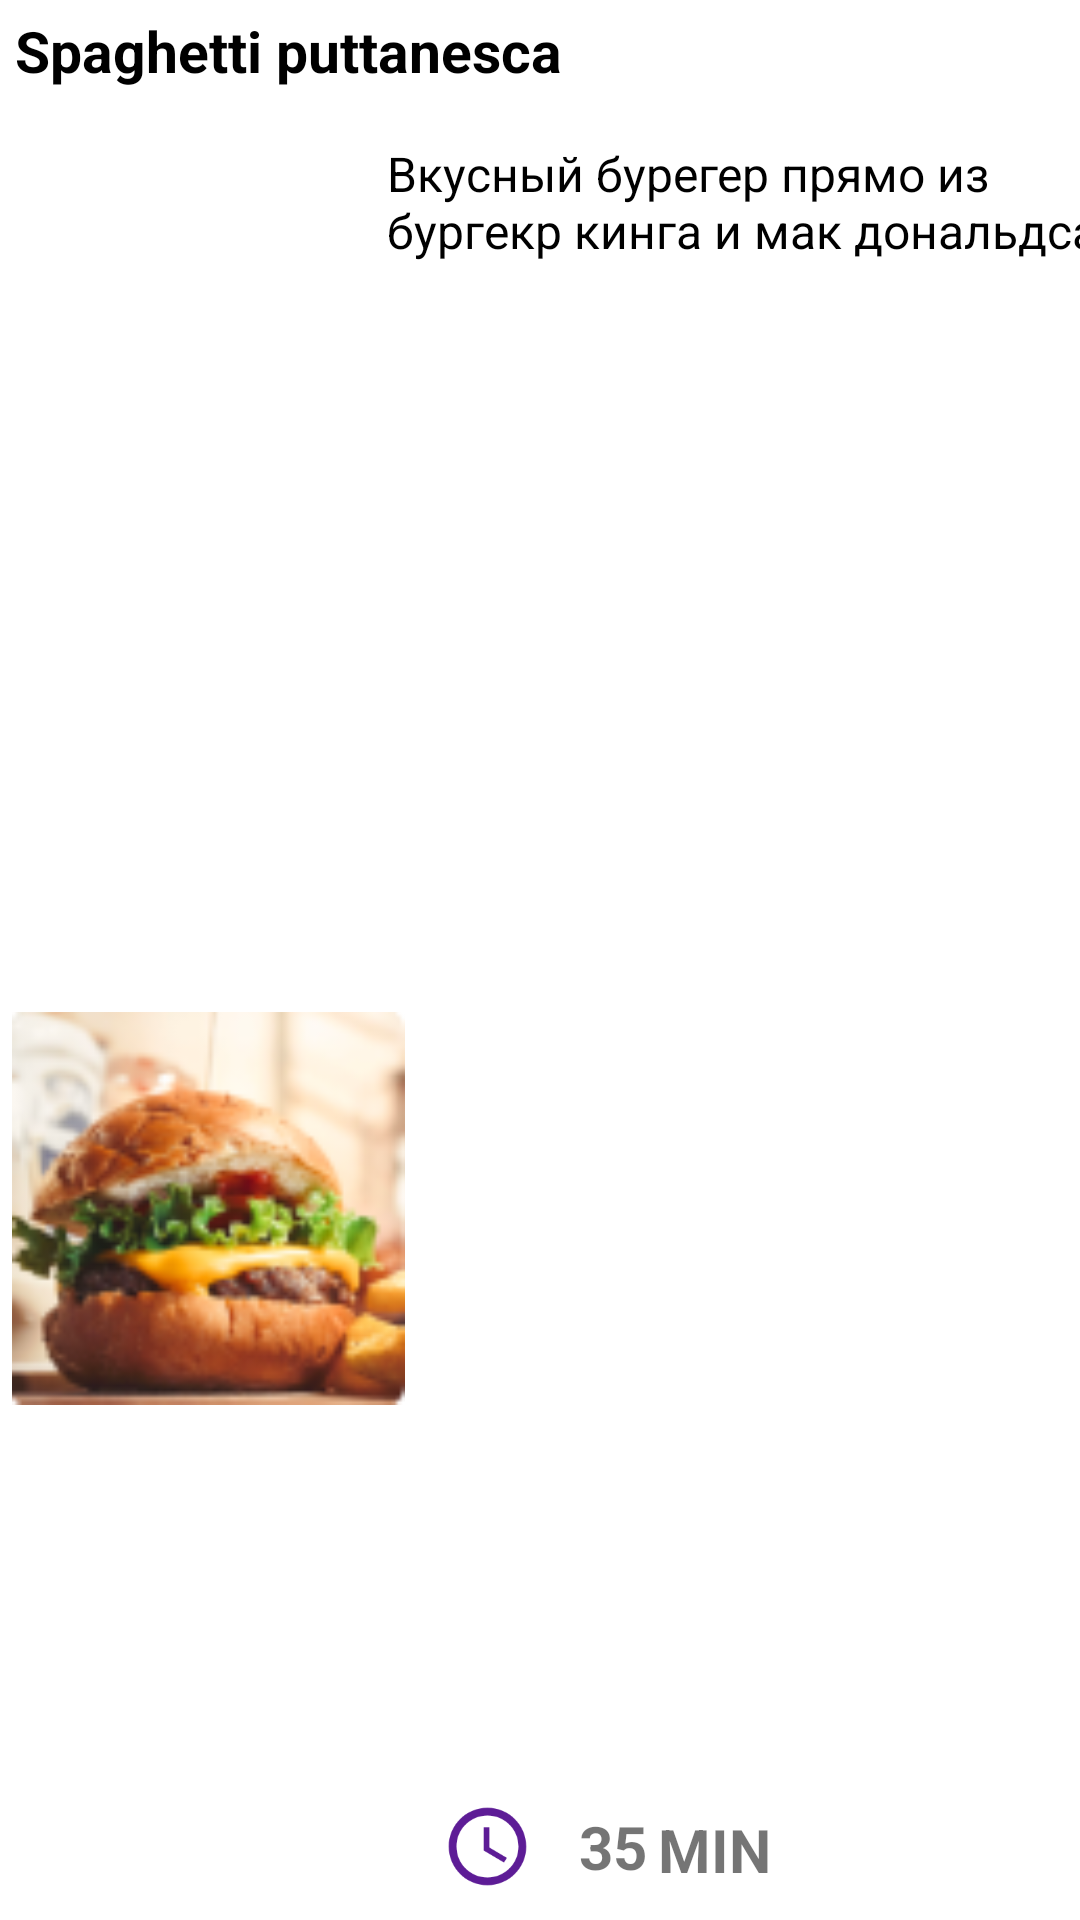

Where icons sit on this 1080*1920 app screen, as (x1, y1, x2, y2):
schedule: (448, 1807, 527, 1886)
